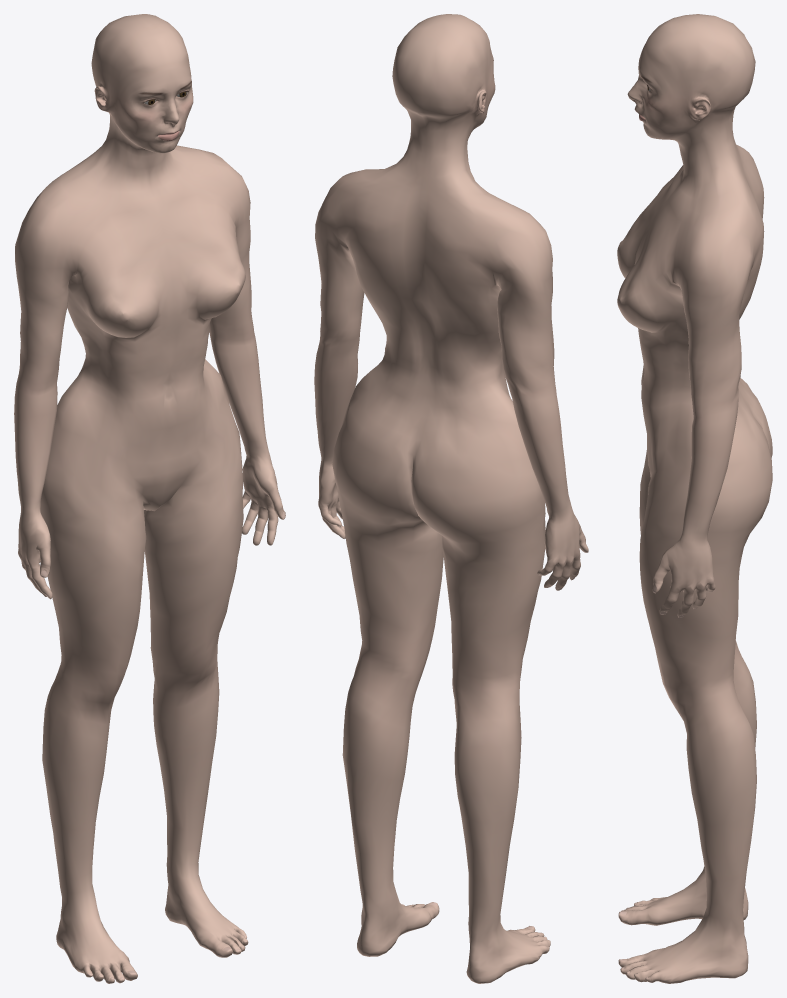
Rendered from woman_central_v3.glb.
The picture shows the model from 3 angles, left to right: view 1: azimuth 30°, elevation 25°; view 2: azimuth 150°, elevation 25°; view 3: azimuth 270°, elevation 25°; orthographic projection.
Parts seen in each view (by area): view 1: basemesh_female_body; view 2: basemesh_female_body; view 3: basemesh_female_body.
Boxes of the visible parts, x1,y1,x2,y2 form: basemesh_female_body: (14,14,285,983); basemesh_female_body: (314,14,588,983); basemesh_female_body: (617,14,772,983).
Size of the model in its own units: 0.4716 by 1.67 by 0.2535.
Materials: 3 (2 with a texture image).
